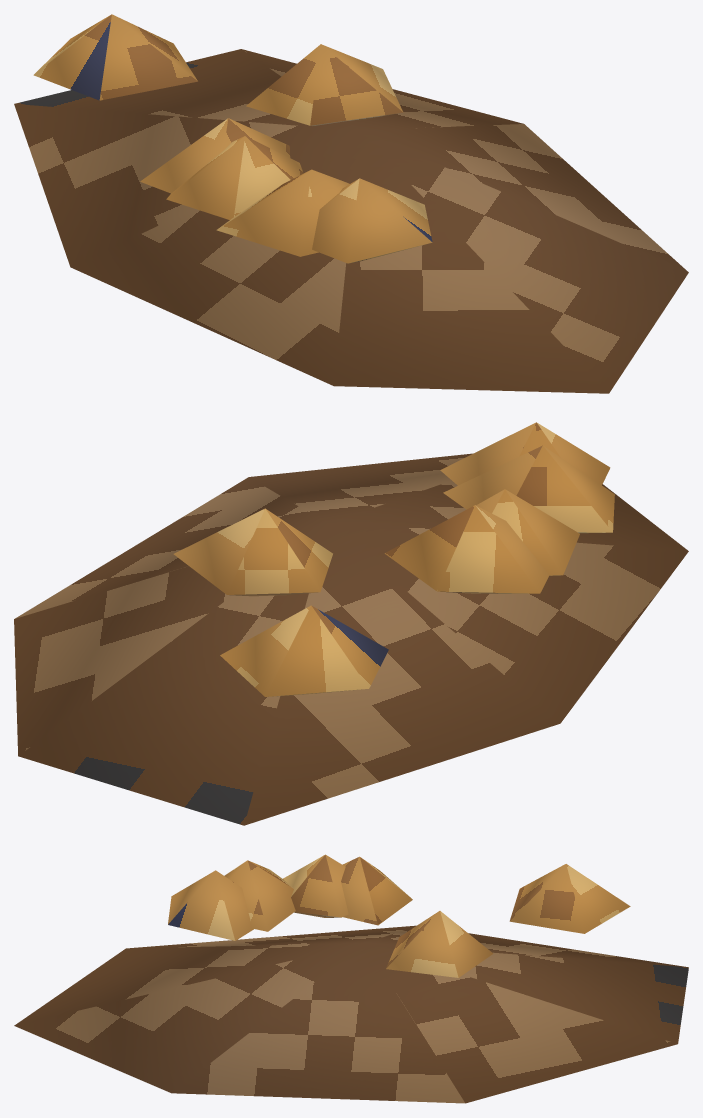
The model's file is wprop.tombstone__cairn.glb.
3 renders of one model, top to bottom at view 1: azimuth 30°, elevation 25°; view 2: azimuth 150°, elevation 25°; view 3: azimuth 270°, elevation 25°, orthographic. The views are drawn at different scales.
Parts seen in each view (by area): view 1: kit_mound, kit_stones; view 2: kit_mound, kit_stones; view 3: kit_mound, kit_stones.
Part boxes in pixels (x1,y1,x2,y2): kit_mound: (14,49,688,393); kit_stones: (33,14,432,263); kit_mound: (14,453,688,825); kit_stones: (173,422,614,696); kit_mound: (14,925,688,1103); kit_stones: (168,854,630,977).
Size of the model in its own units: 0.8468 by 0.328 by 1.34.
Materials: 2 (2 with a texture image).
